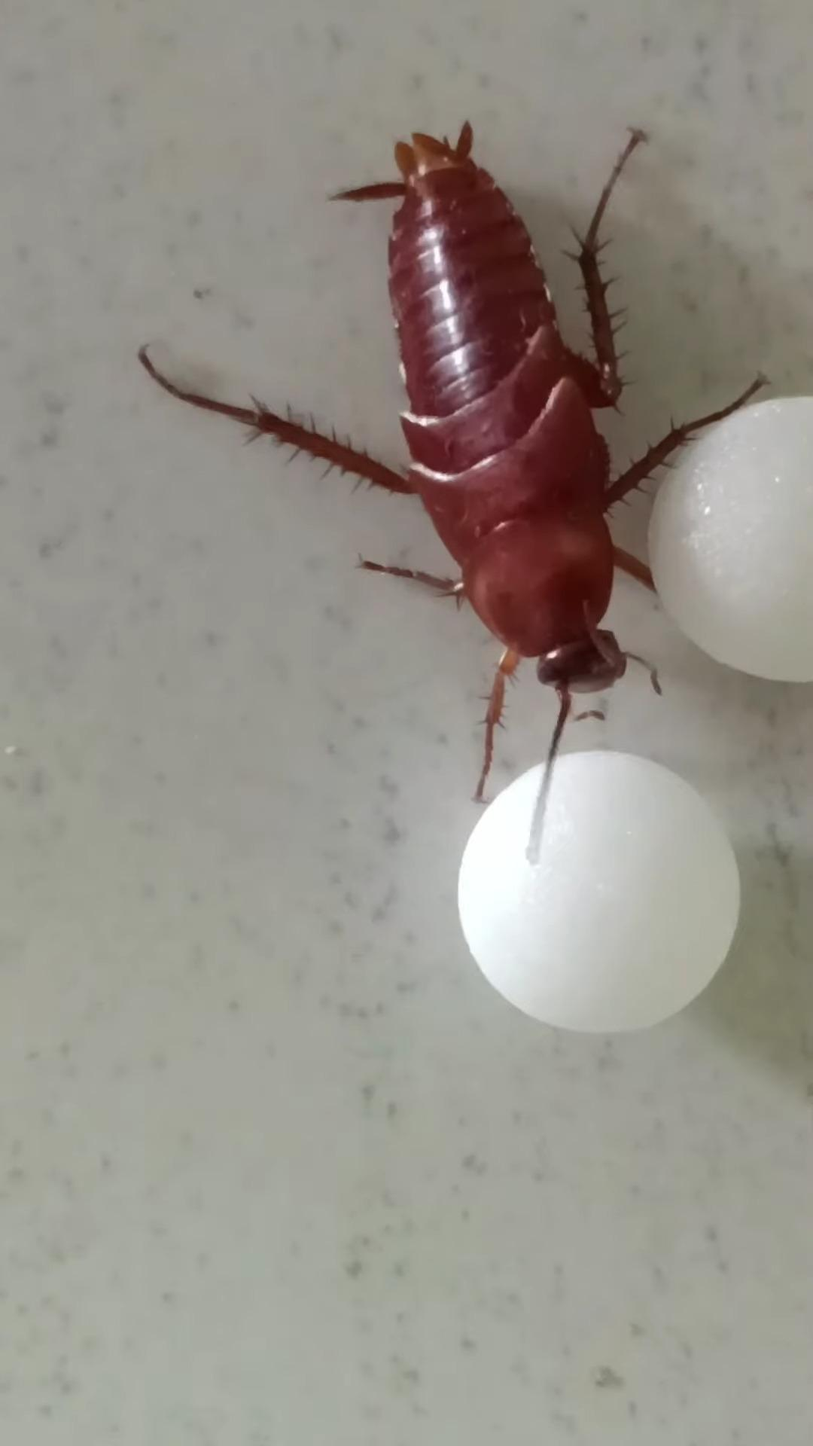cockroach: (110, 121, 649, 741)
